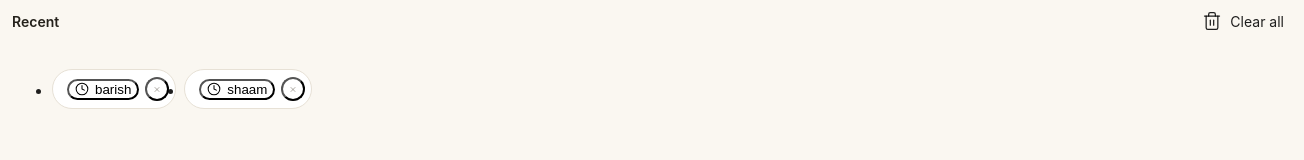
RecentSearches (local/anonymous path) › forgets a single query via its remove button
Click the button named "Remove “barish” from recent searches" at [157, 89], box top-left (145, 77), bottom-right (169, 101)
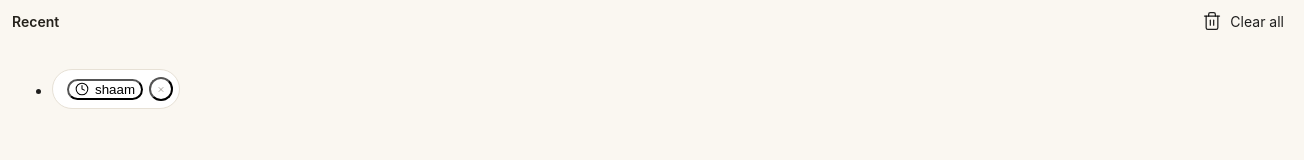
Expected: the button "barish" is gone
